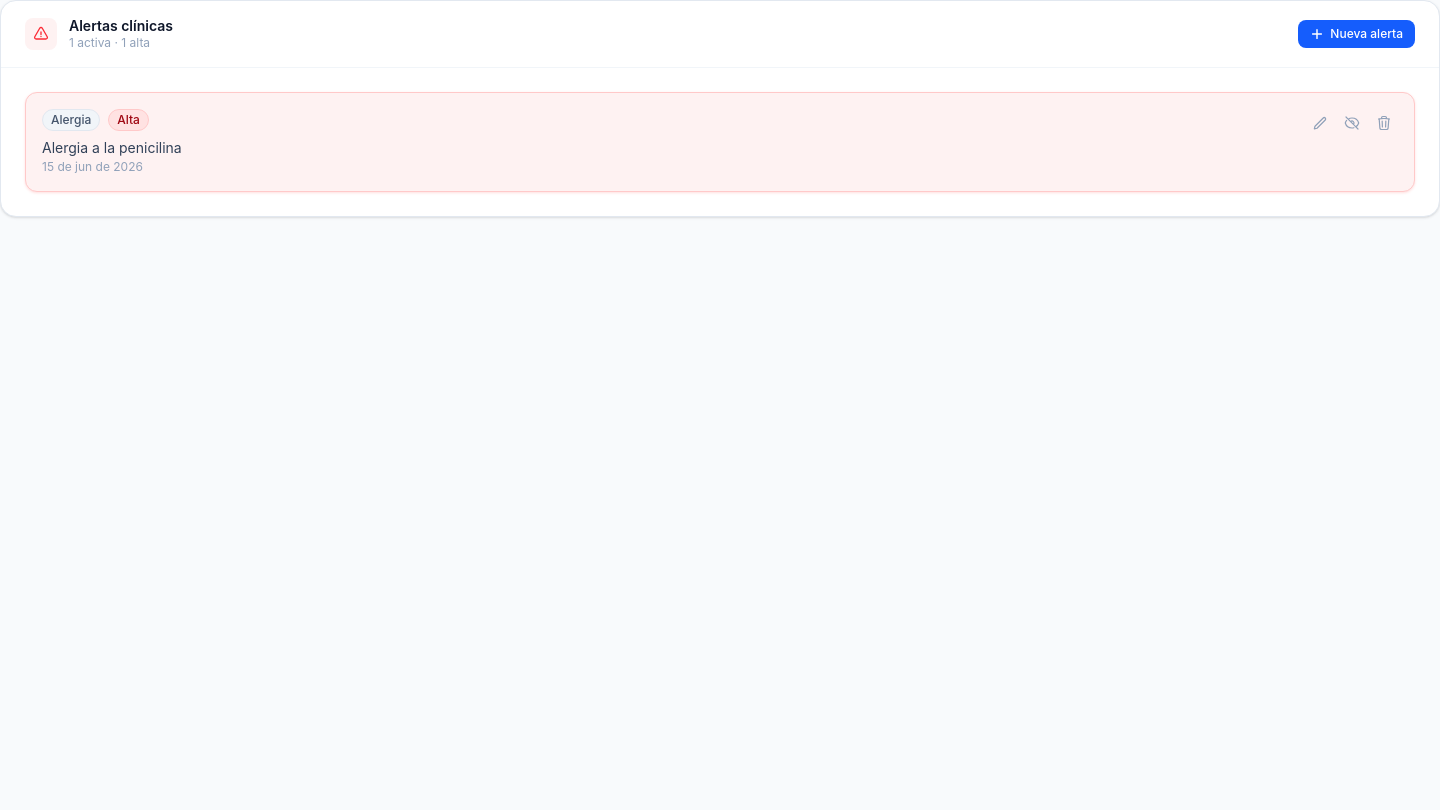
PatientAlertsPanel › muestra error 409 cuando el backend rechaza un duplicado
This screenshot has width=1440, height=810.
Click the button "Nueva alerta" at (1357, 34), box top-left (1298, 20), bottom-right (1415, 48)
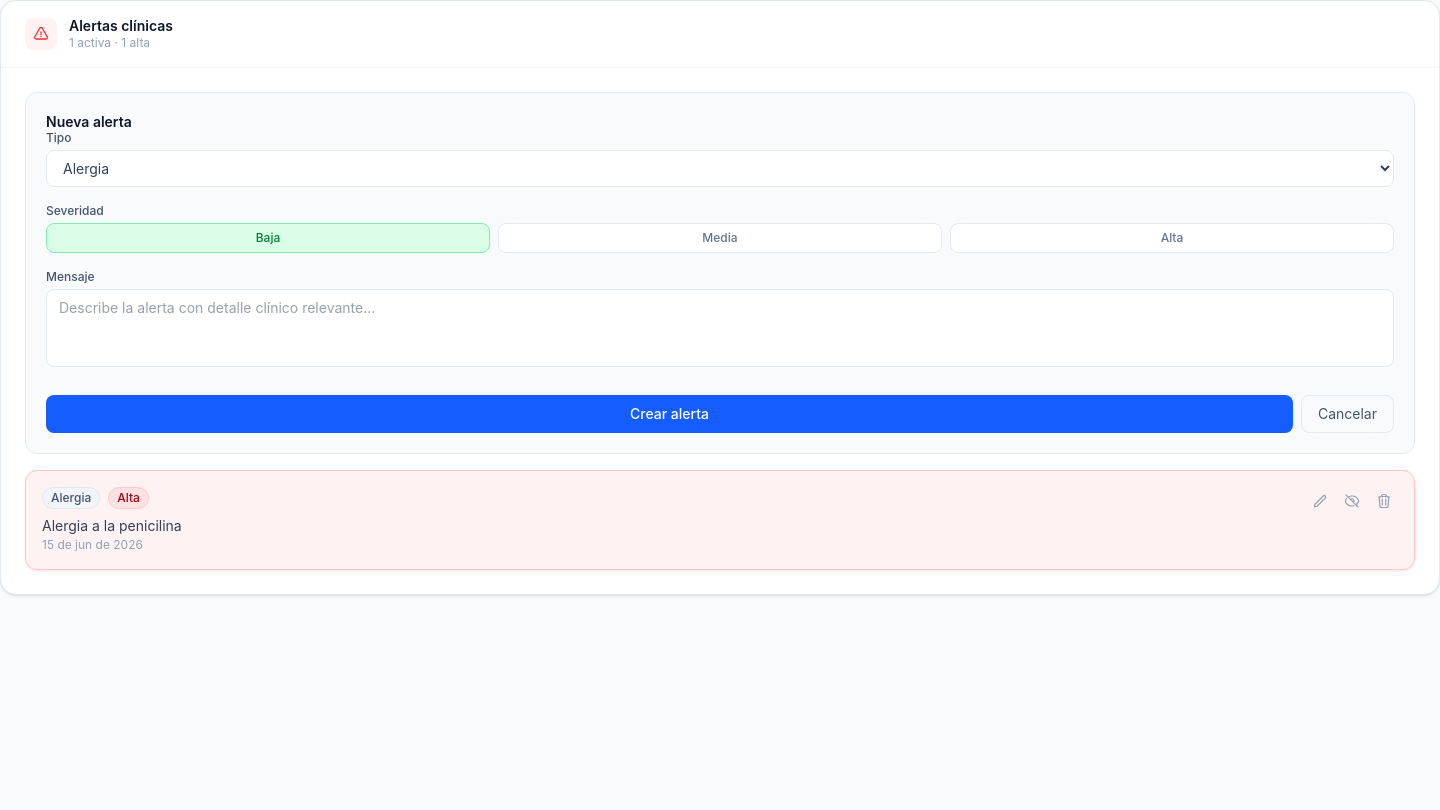
Type "Alergia a la penicilina" into the text box with placeholder "Describe la alerta con detalle clínico relevante..." at (720, 328), box top-left (46, 289), bottom-right (1394, 367)
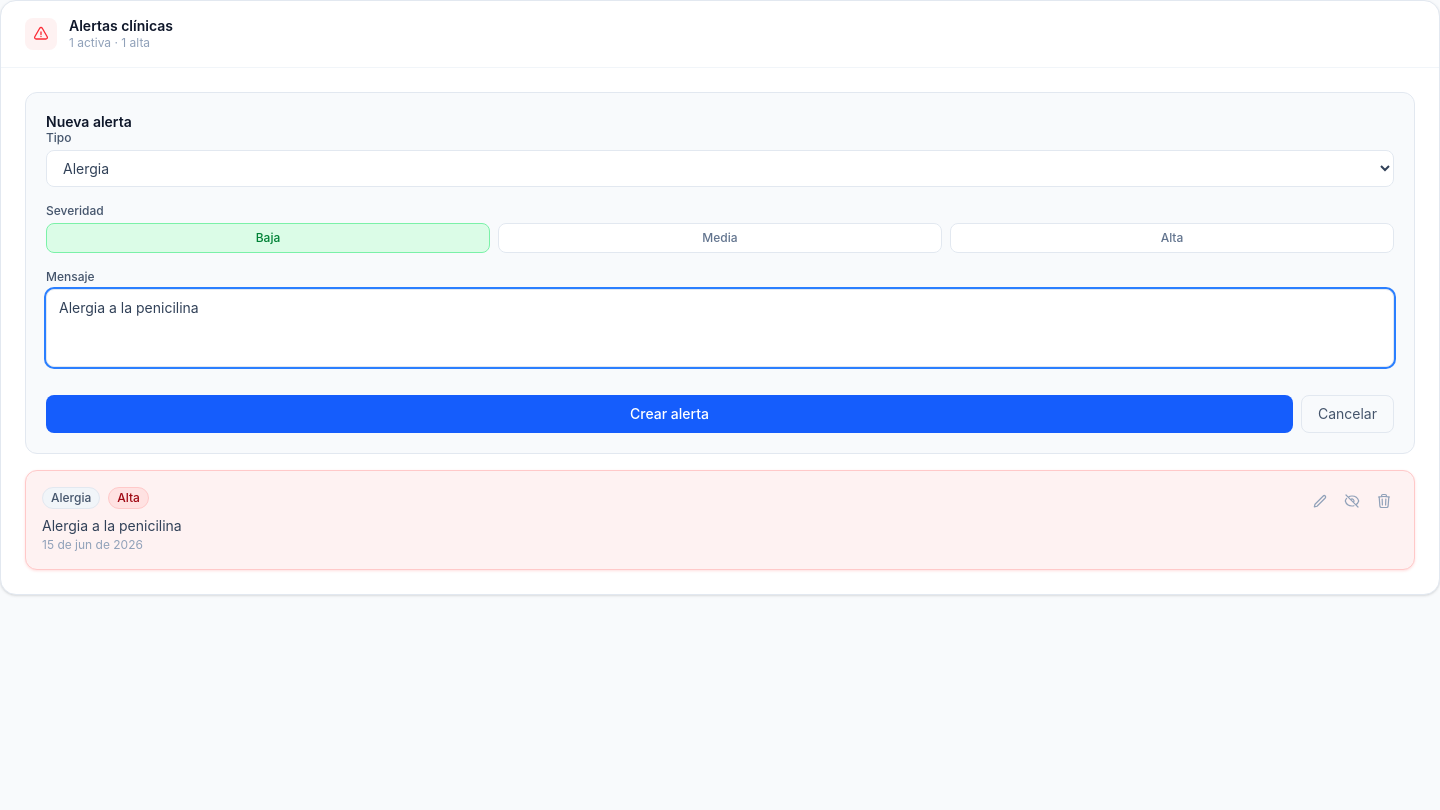
Click the button "Crear alerta" at (670, 414), box top-left (46, 395), bottom-right (1293, 433)
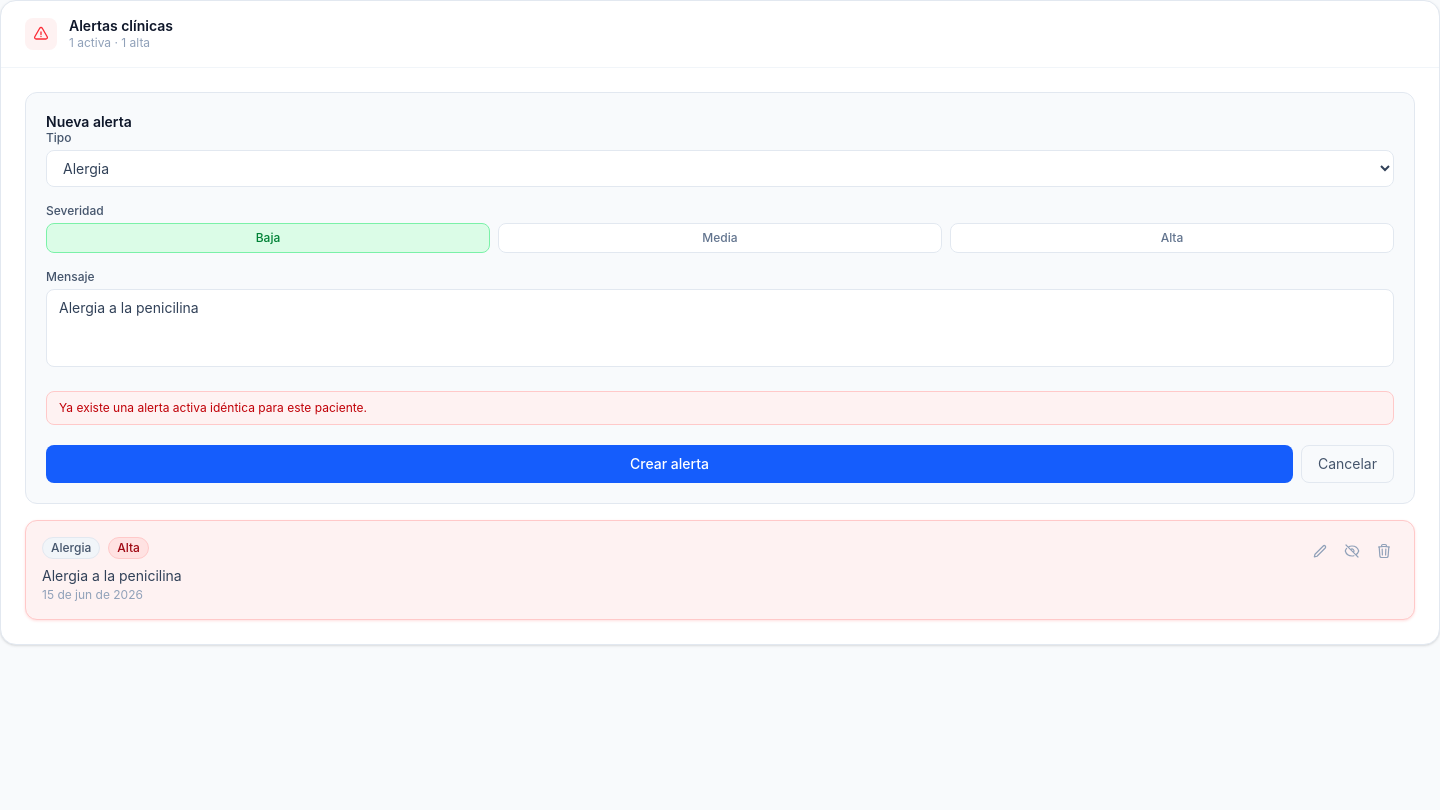
Expected: the text "Ya existe una alerta activa idéntica para este paciente." is shown, top-left (46, 391), bottom-right (1394, 425)
